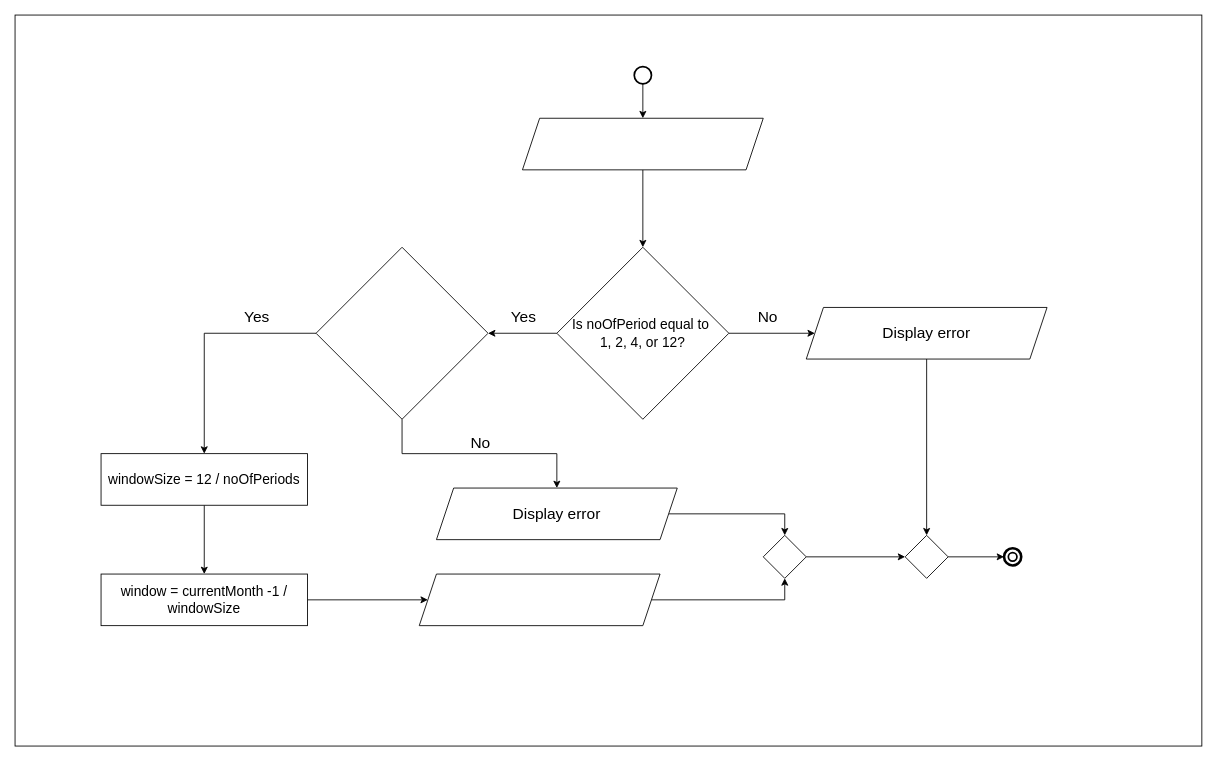
This 1217x761 diagram has some shape labels left out. Each missing label, with the box of its shape:
Is currentMonth between 1 to 12?: (315, 246, 488, 419)
noOfPeriod, currentMonth: (522, 117, 763, 170)
Return window: (418, 573, 660, 626)
